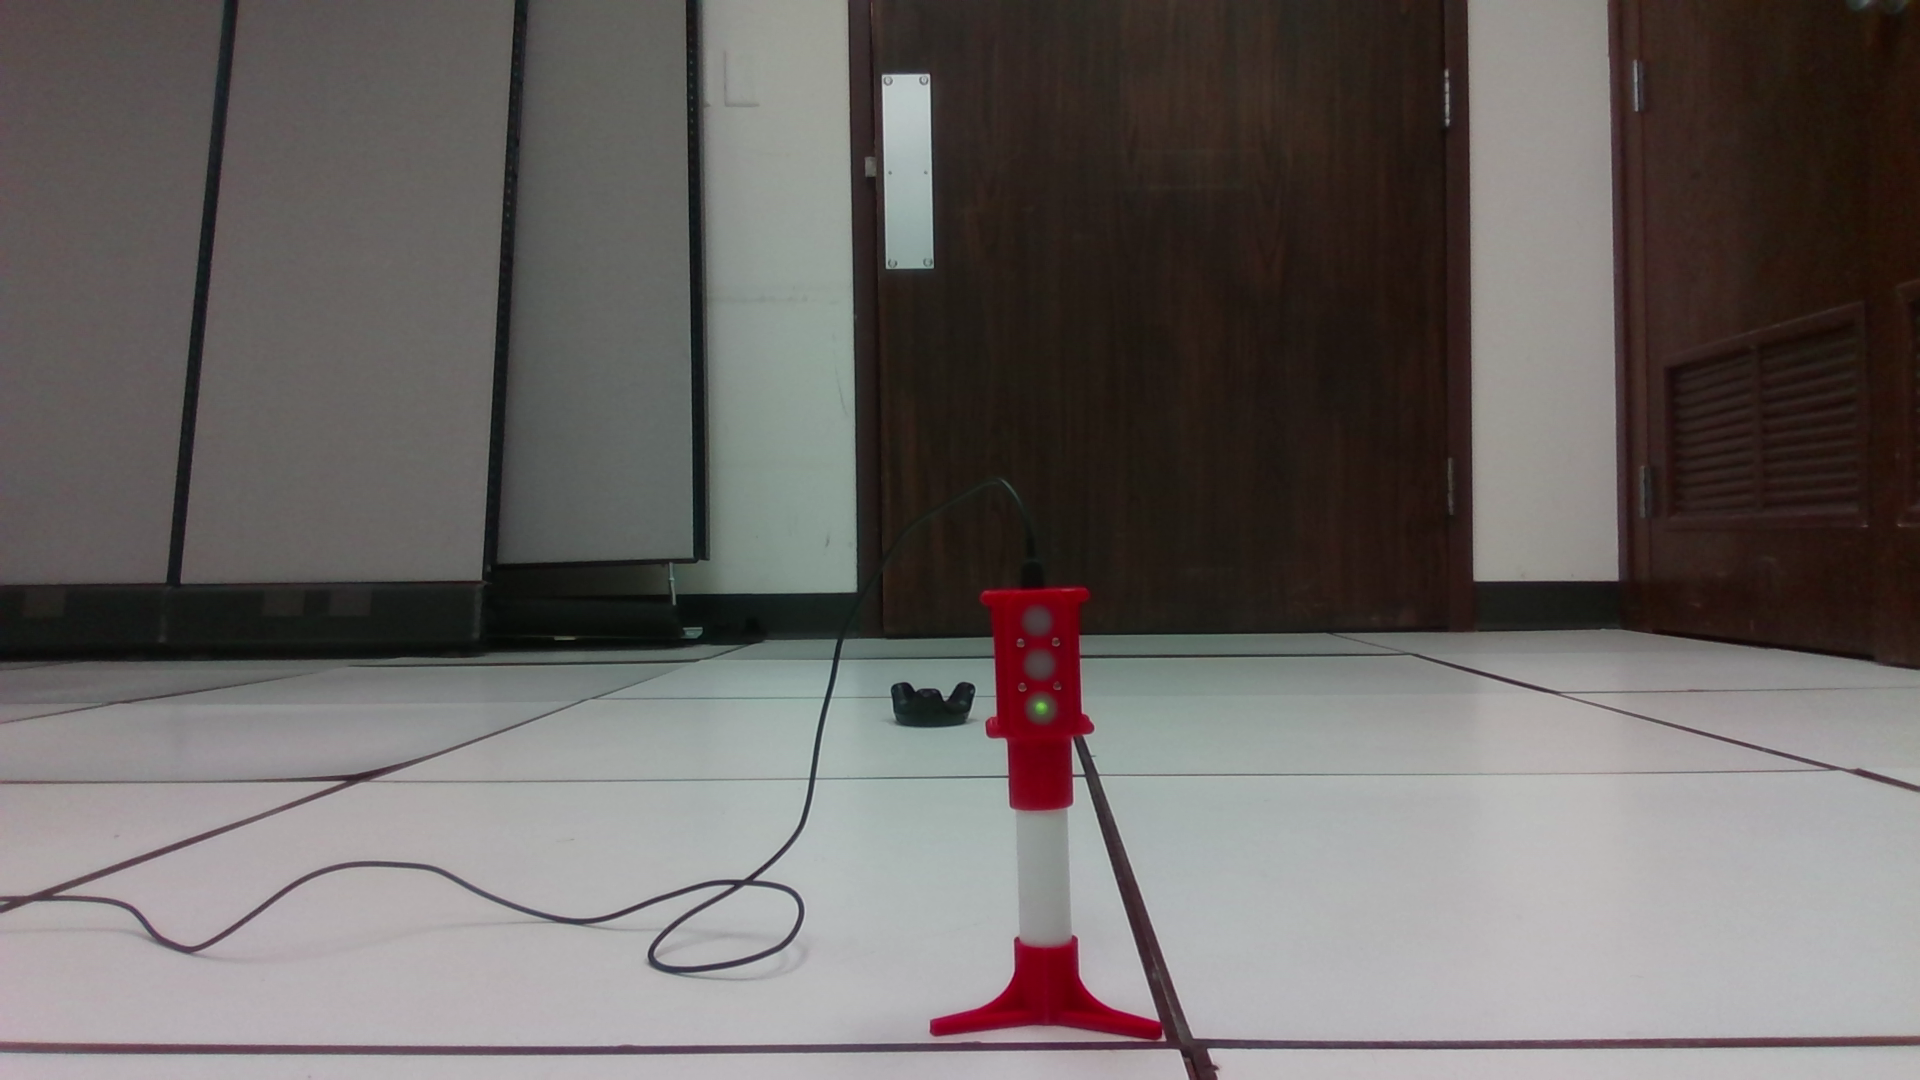stoplight: (981, 588, 1097, 811)
